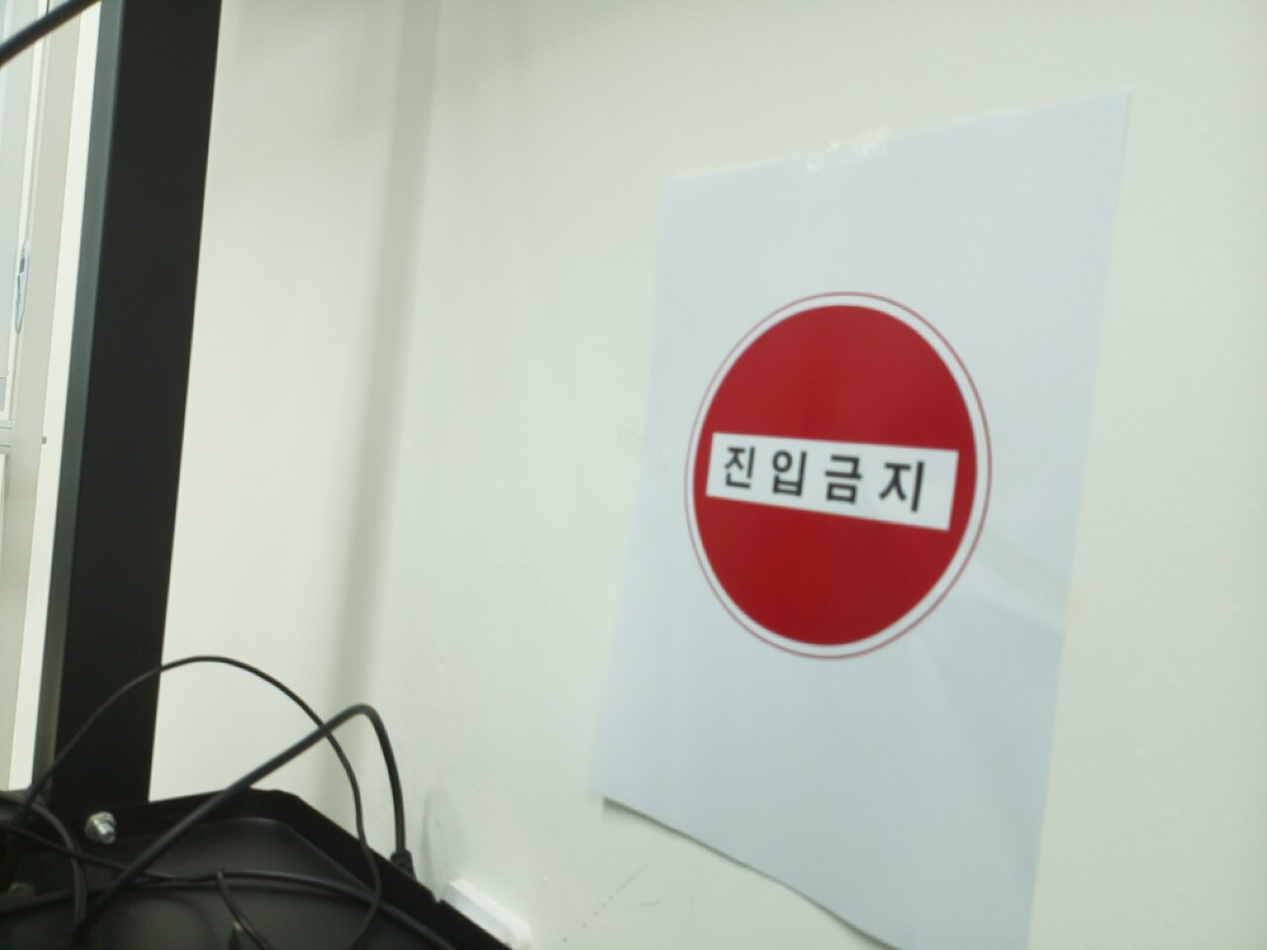do_not_enter: (684, 294, 986, 657)
